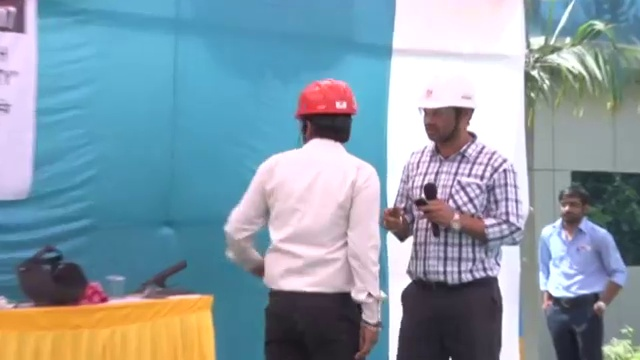helmet: (293, 77, 359, 119), (417, 72, 478, 112)
helmet_off: (557, 184, 585, 221)
helmet_on: (417, 70, 480, 153), (293, 77, 361, 150)
person: (222, 77, 388, 360), (384, 74, 523, 360), (536, 186, 626, 360)
